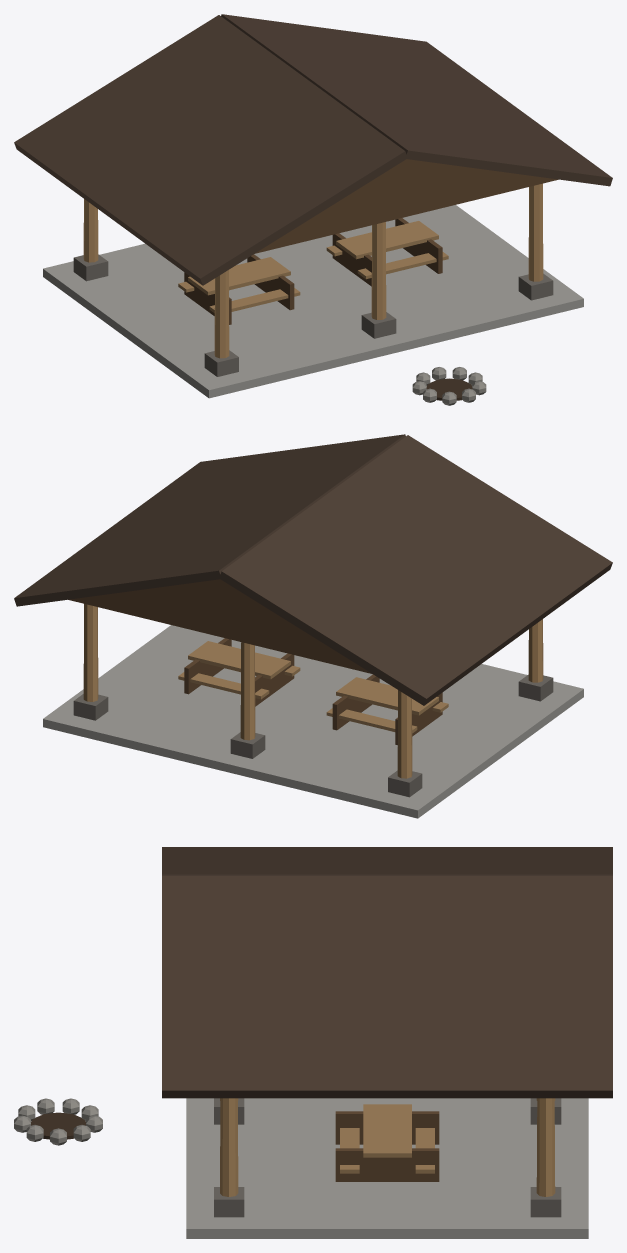
The model's file is picnic_shelter.glb.
The picture shows the model from 3 angles, top to bottom: view 1: azimuth 30°, elevation 25°; view 2: azimuth 150°, elevation 25°; view 3: azimuth 270°, elevation 25°; orthographic projection. The views are drawn at different scales.
Parts seen in each view (by area): view 1: roof, picnic_shelter, picnic_table (×2), fire_ring; view 2: roof, picnic_shelter, picnic_table (×2); view 3: roof, picnic_shelter, picnic_table, fire_ring.
Part boxes in pixels (bbox=[...]): roof: bbox=[14, 14, 612, 285]; picnic_shelter: bbox=[43, 183, 583, 398]; picnic_table (×2): bbox=[178, 218, 448, 324]; fire_ring: bbox=[412, 367, 486, 405]; roof: bbox=[14, 434, 612, 705]; picnic_shelter: bbox=[43, 604, 583, 818]; picnic_table (×2): bbox=[178, 638, 448, 745]; roof: bbox=[162, 847, 612, 1098]; picnic_shelter: bbox=[186, 1098, 588, 1238]; picnic_table: bbox=[335, 1104, 439, 1181]; fire_ring: bbox=[14, 1098, 102, 1145].
Size of the model in its own units: 9.46 by 4.6 by 9.83.
